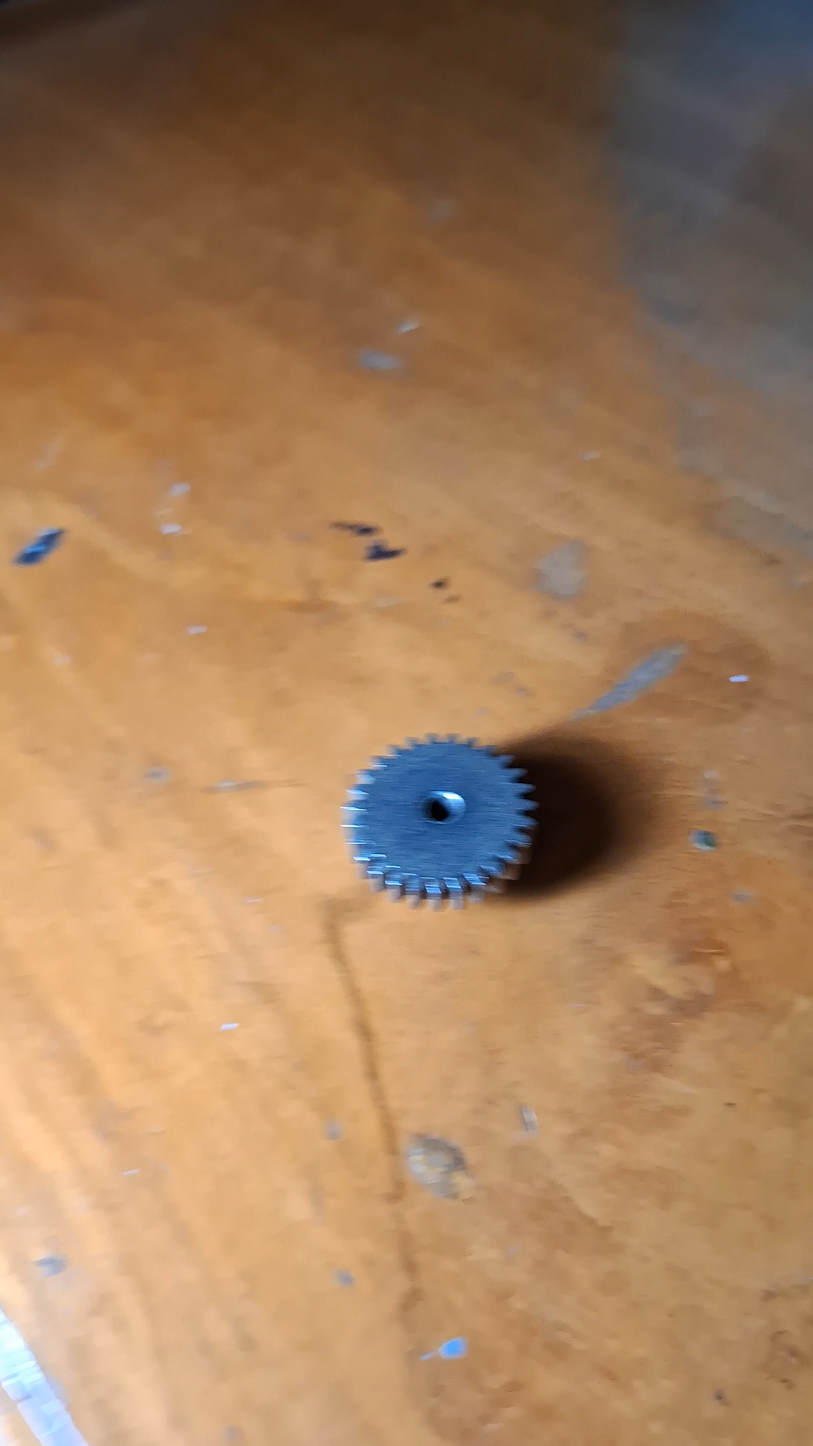spur gear: (343, 735, 536, 906)
